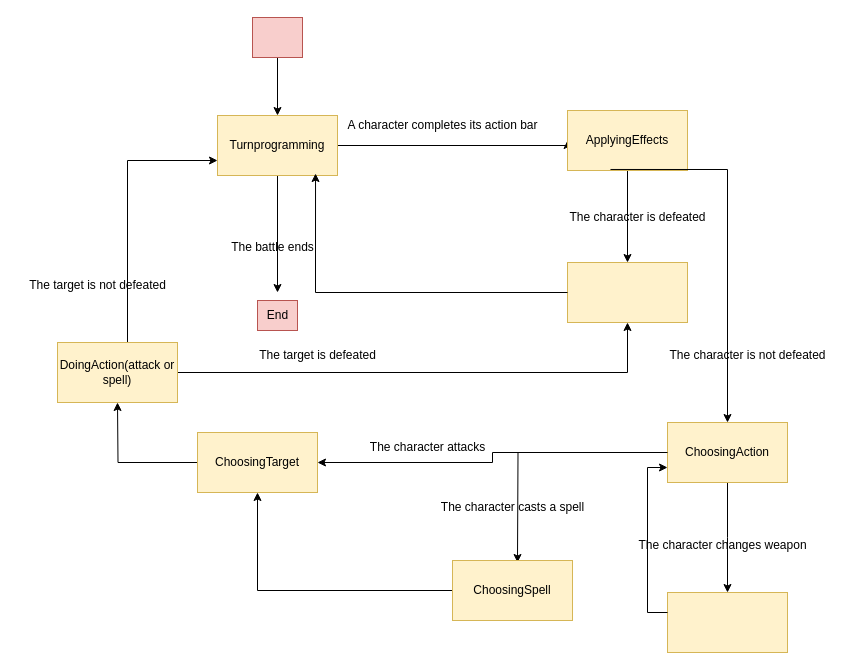
Image size: 854x670. Some labels were removed from this diagram. Here are the shapes that lost their labels. From the top down, the centre of each, then its label:
At pixel 277 37: "Start".
At pixel 627 292: "CharacterElimination".
At pixel 727 622: "ChangingWeapon".
